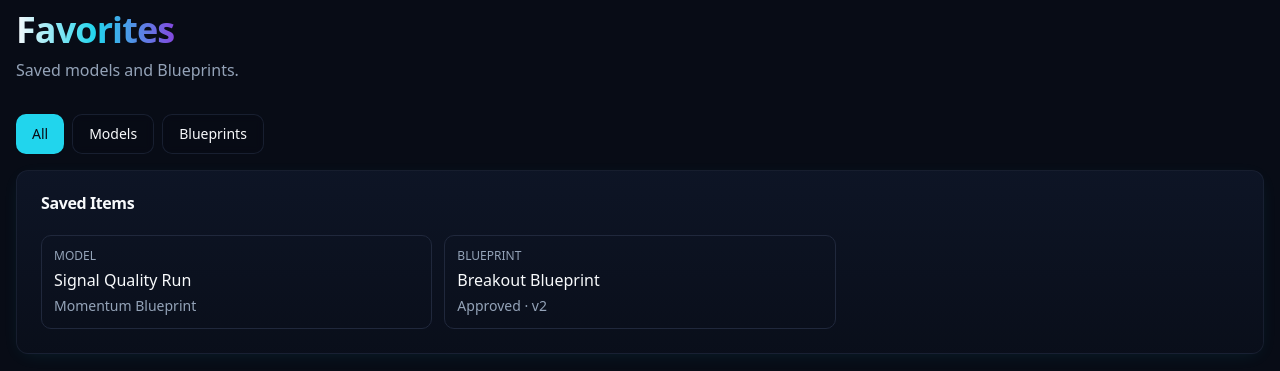
Test: FavoritesLibraryView › loads favorited models and blueprints and filters them locally
The width and height of the screenshot is (1280, 371).
Expected: the text "Signal Quality Run" is shown, [54,269,191,291]
Expected: the text "Breakout Blueprint" is shown, [457,269,600,291]
Click the button "Models" at (113, 134), box [72,114,154,154]
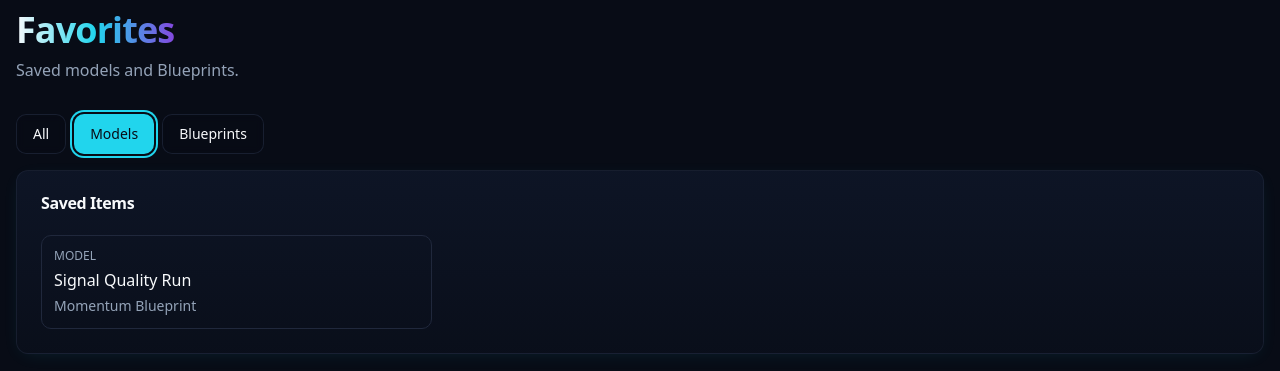
Expected: the text "Signal Quality Run" is shown, [54,269,191,291]
Expected: the link "Breakout Blueprint" is gone
Click the button "Blueprints" at (213, 134), box [162,114,264,154]
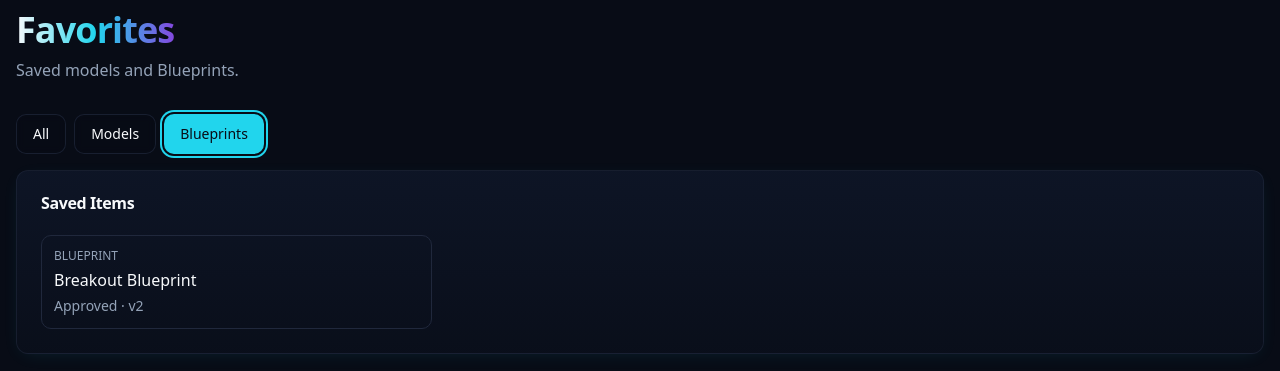
Expected: the link "Signal Quality Run" is gone
Expected: the text "Breakout Blueprint" is shown, [54,269,196,291]
